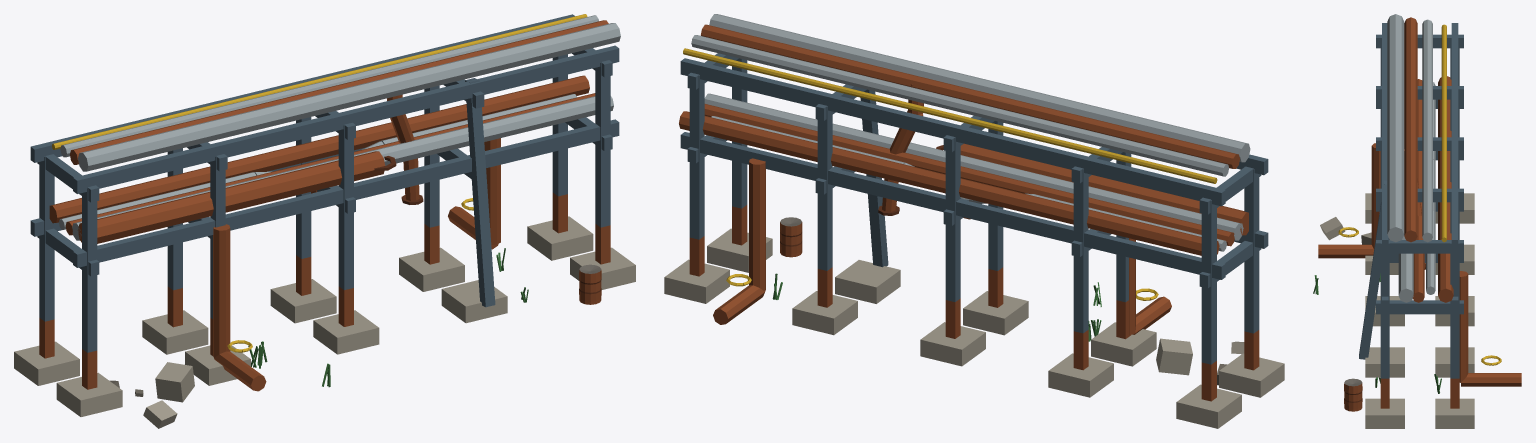
Rendered from ChemPlant_PipeRack.fbx.
3 renders of one model, left to right at view 1: azimuth 30°, elevation 25°; view 2: azimuth 150°, elevation 25°; view 3: azimuth 270°, elevation 25°, orthographic. The views are drawn at different scales.
Visible parts, largest first — view 1: ChemPlant_PipeRack; view 2: ChemPlant_PipeRack; view 3: ChemPlant_PipeRack.
Part boxes in pixels (x1,y1,x2,y2): ChemPlant_PipeRack: (14, 14, 635, 428); ChemPlant_PipeRack: (664, 14, 1284, 428); ChemPlant_PipeRack: (1313, 14, 1521, 428).
Size of the model in its own units: 1730 by 759 by 687.
